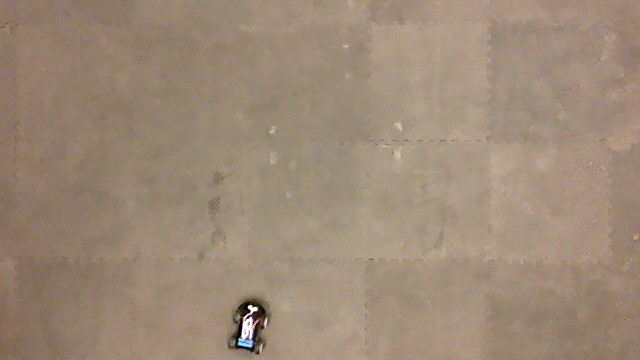Agent: (226, 299, 271, 356)
